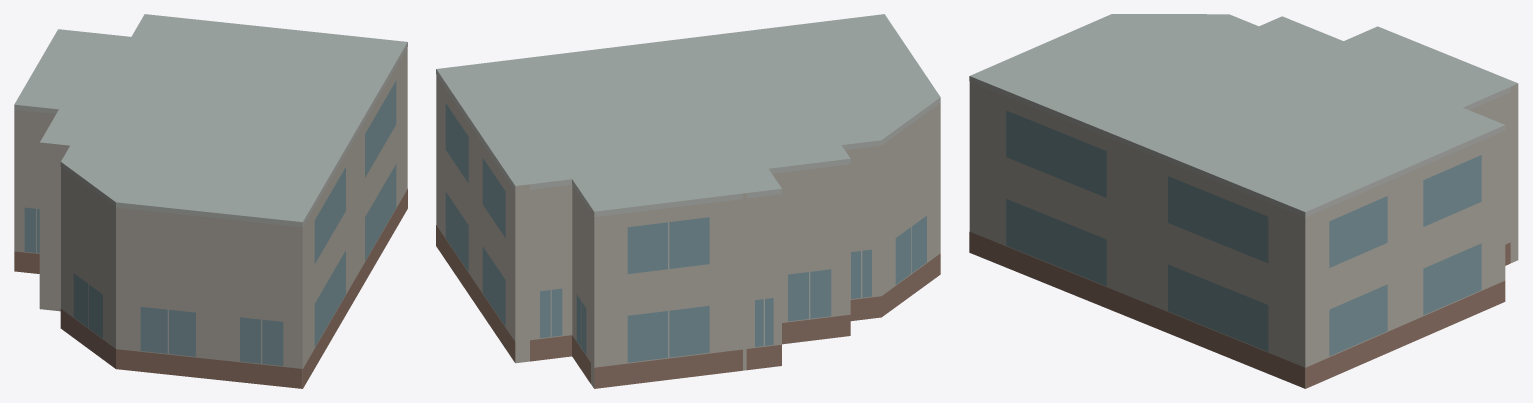
Rendered from survey-upis-32466465.glb.
3 views of the same model, side by side, from view 1: azimuth 30°, elevation 25°; view 2: azimuth 150°, elevation 25°; view 3: azimuth 270°, elevation 25° (orthographic). The views are drawn at different scales.
Visible parts, largest first — view 1: survey-upis-32466465.tmp; view 2: survey-upis-32466465.tmp; view 3: survey-upis-32466465.tmp.
Part boxes in pixels (x1,y1,x2,y2): survey-upis-32466465.tmp: [14, 14, 407, 388]; survey-upis-32466465.tmp: [436, 14, 940, 388]; survey-upis-32466465.tmp: [969, 14, 1518, 388].
Bounding box in the file's own units: 19.01 × 7.9 × 22.25.
